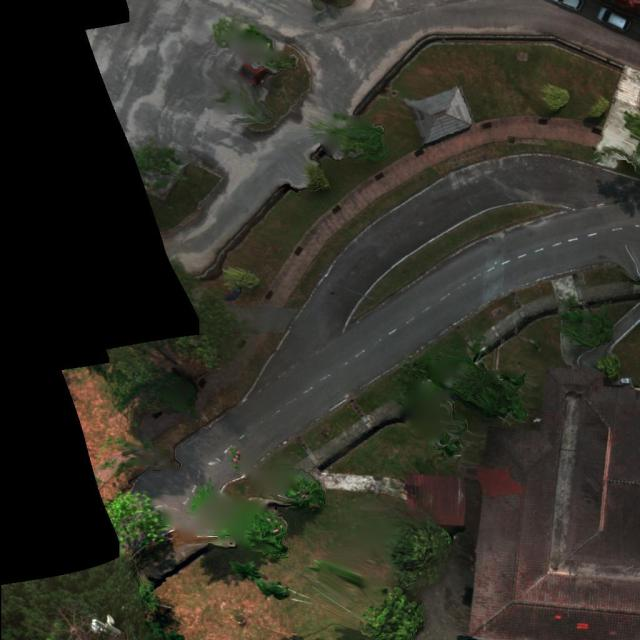Tree: (88, 261, 246, 426), (444, 346, 528, 425), (388, 516, 454, 590), (105, 490, 171, 558), (307, 111, 388, 161), (359, 587, 427, 640), (552, 293, 614, 351), (129, 142, 190, 192), (220, 264, 261, 290), (538, 84, 570, 113), (593, 352, 623, 379), (587, 95, 613, 122)
